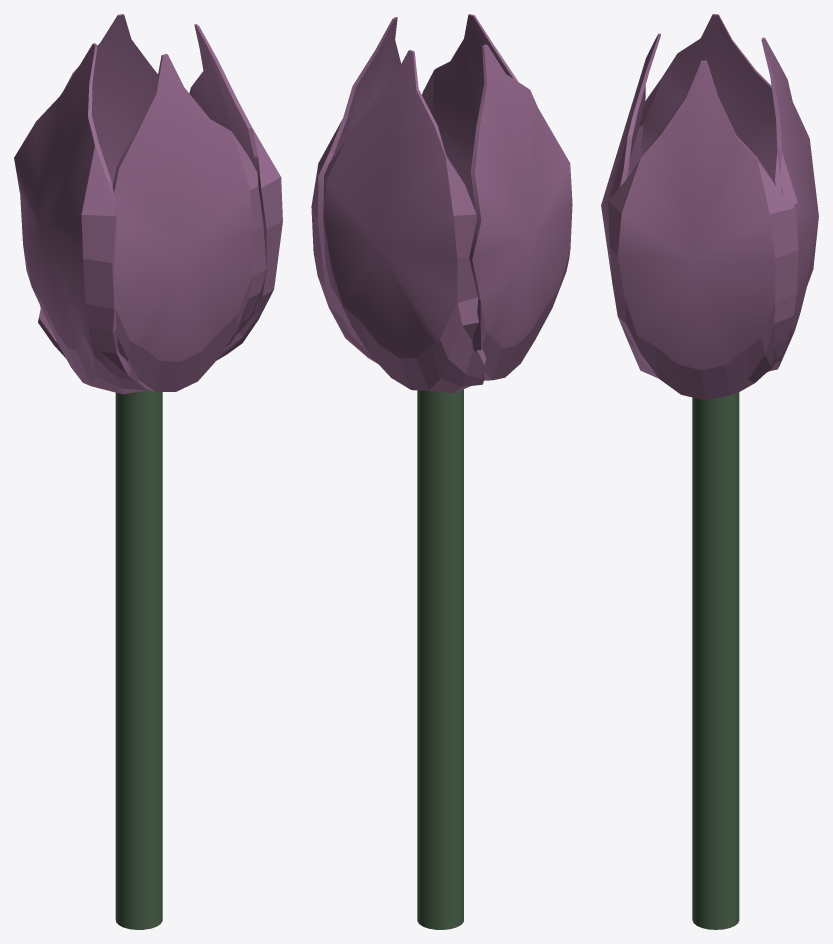
Rendered from tulip.obj.
3 views of the same model, side by side, from view 1: azimuth 30°, elevation 25°; view 2: azimuth 150°, elevation 25°; view 3: azimuth 270°, elevation 25° (orthographic).
Visible parts, largest first — view 1: tulip petals, stem tulip; view 2: tulip petals, stem tulip; view 3: tulip petals, stem tulip.
Part boxes in pixels (x1,y1,x2,y2): tulip petals: [14, 14, 282, 394]; stem tulip: [115, 390, 162, 929]; tulip petals: [311, 14, 572, 393]; stem tulip: [417, 389, 463, 929]; tulip petals: [601, 14, 818, 400]; stem tulip: [692, 392, 739, 929].
Bounding box in the file's own units: 0.9927 × 4.19 × 0.9372.
